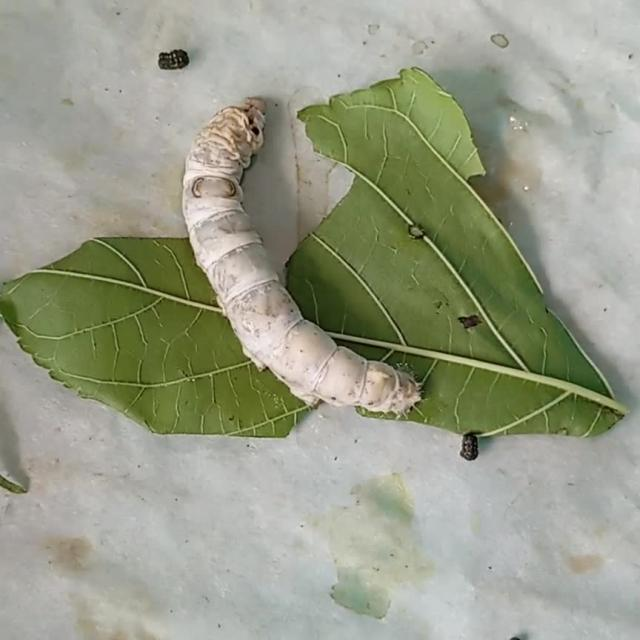Grasserie: (173, 91, 439, 436)
